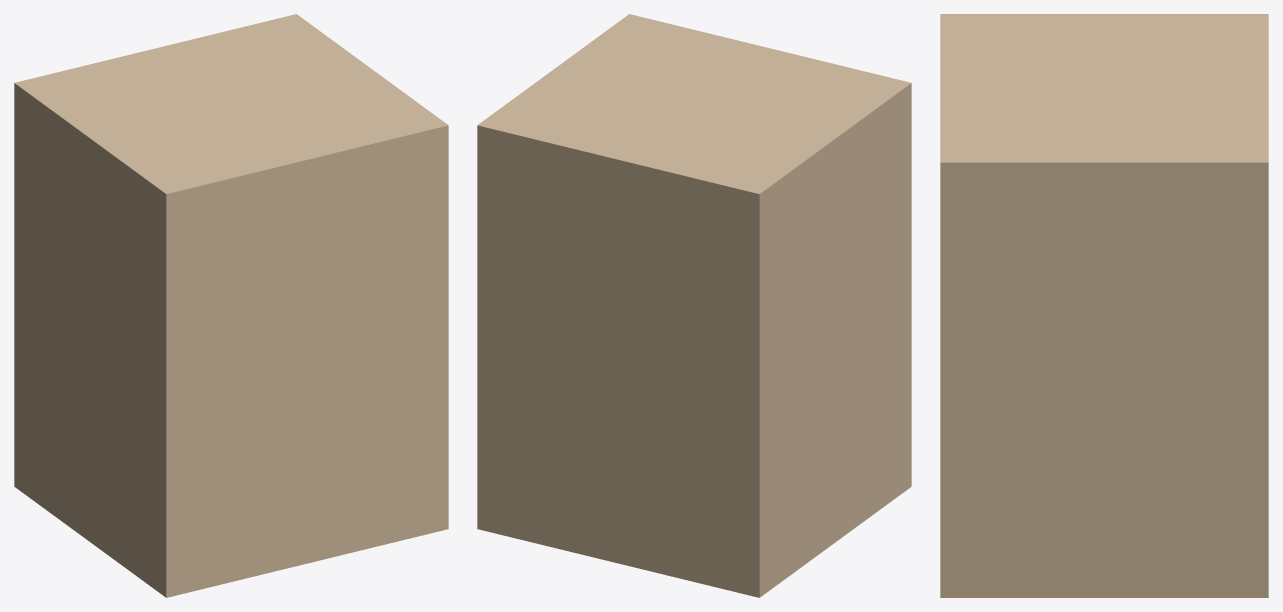
3 views of the same model, side by side, from view 1: azimuth 30°, elevation 25°; view 2: azimuth 150°, elevation 25°; view 3: azimuth 270°, elevation 25° (orthographic). The views are drawn at different scales.
Parts seen in each view (by area): view 1: carcass; view 2: carcass; view 3: carcass.
Part boxes in pixels (<box>): carcass: <box>14,14,448,597</box>; carcass: <box>477,14,911,597</box>; carcass: <box>940,14,1268,597</box>.
Size of the model in its own units: 0.6 by 0.82 by 0.56.
